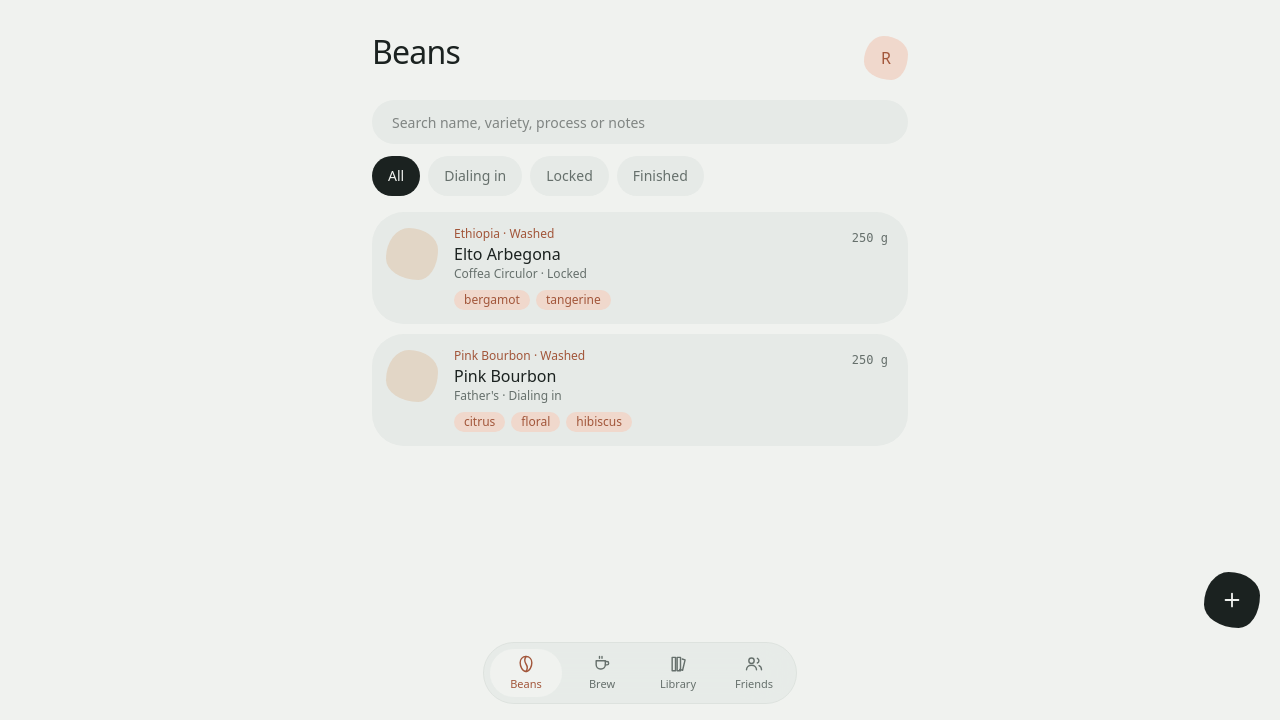
Beans search › combines with the status filter
Type "washed" into the search field named "Search your beans".
click(640, 122); type("washed")  # box 372,100 -> 908,144
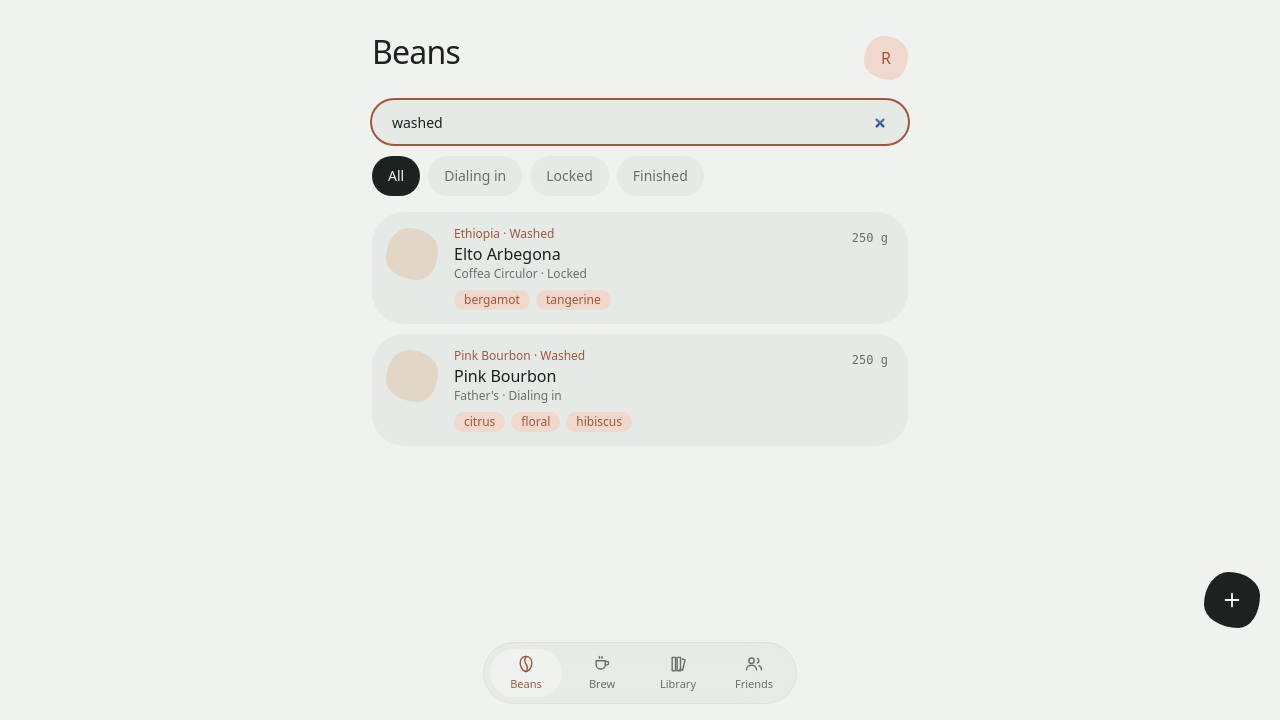
Expected: the text "Elto Arbegona" is shown, 454,243 -> 561,265
Expected: the text "Pink Bourbon" is shown, 454,365 -> 556,387
Click the button "Locked".
click(570, 176)  # box 530,156 -> 609,196
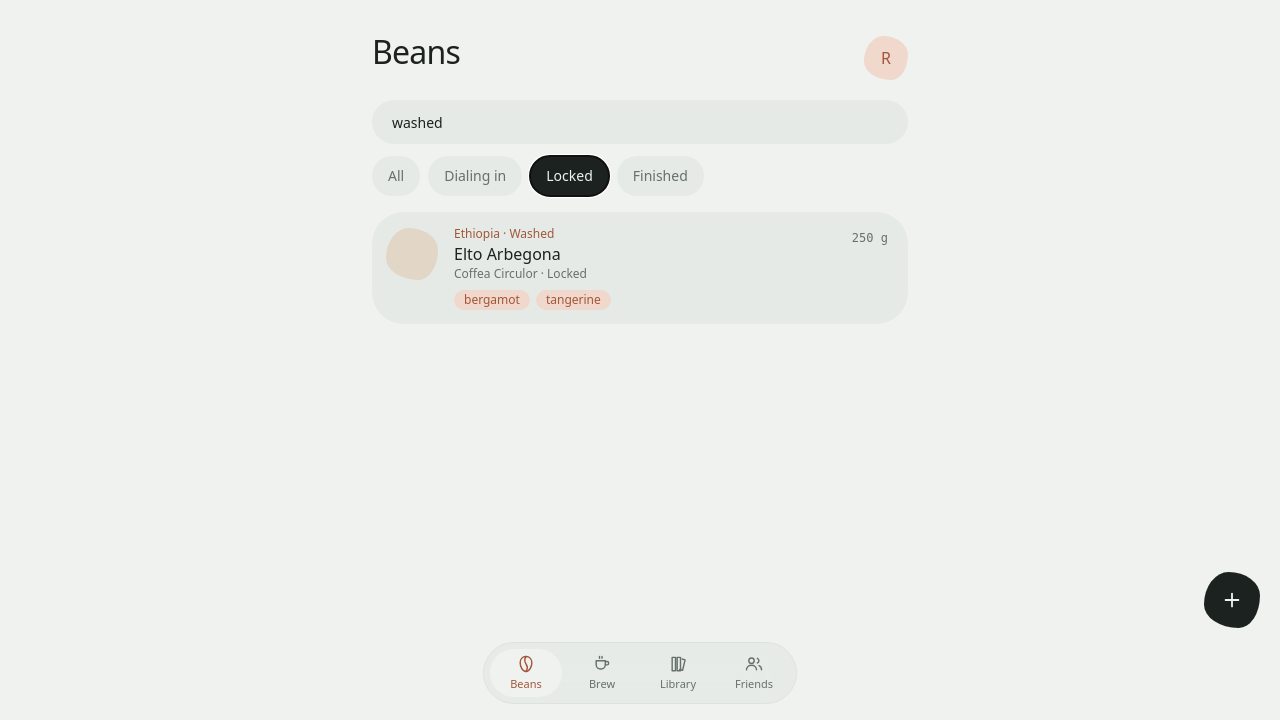
Expected: the text "Elto Arbegona" is shown, 454,243 -> 561,265
Expected: the link "Pink Bourbon" is gone
